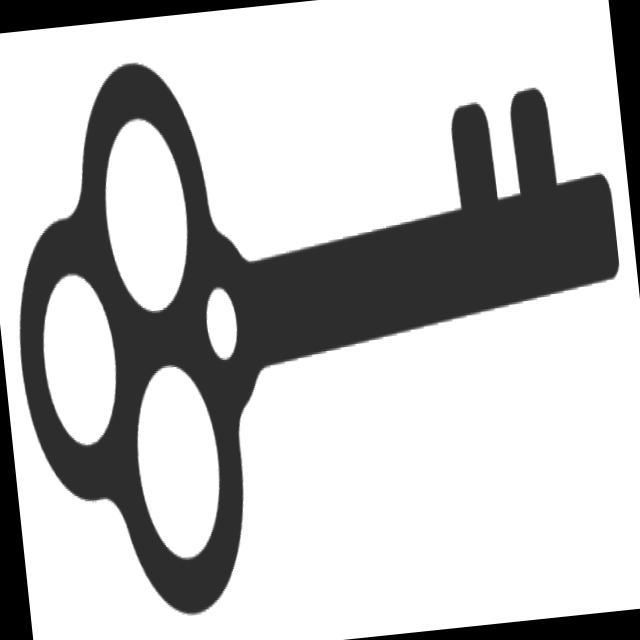key: (1, 3, 640, 640)
